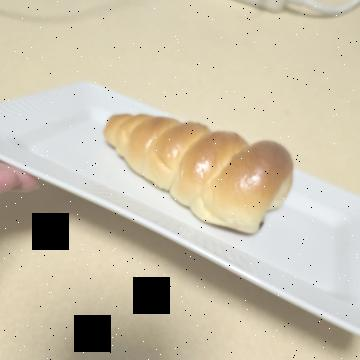cream horn: (102, 70, 246, 284)
